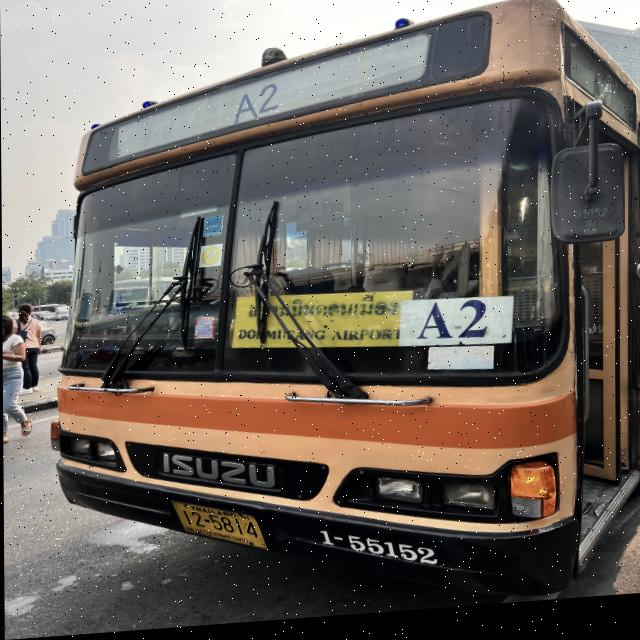BMTA-bus: (41, 0, 640, 638)
Bus Line Number: (230, 83, 285, 132)
Bus Side Number: (313, 523, 447, 588)
Destination Sign: (236, 291, 411, 363)
